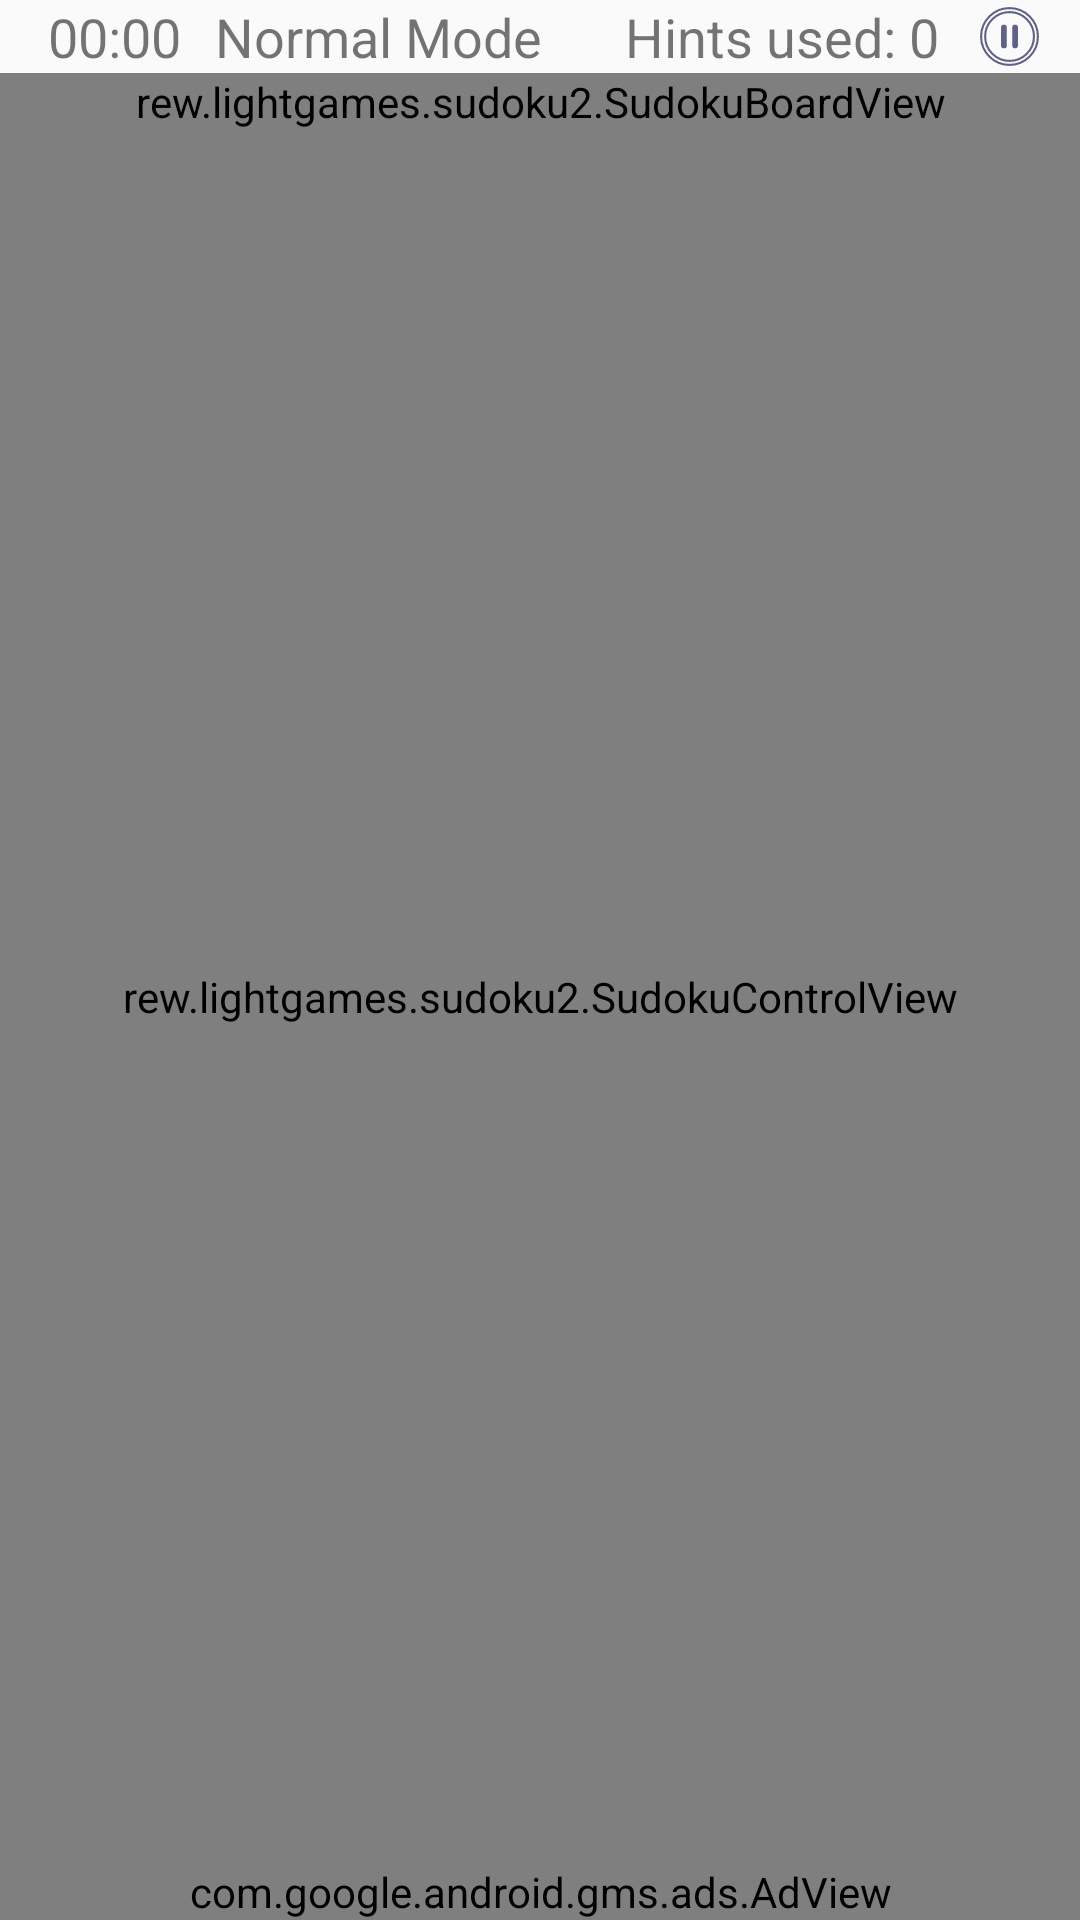

Icons on this 1080px x 1920px Android screen, each with its box as (x1, y1, x2, y2):
Pause Button: (980, 7, 1039, 66)
